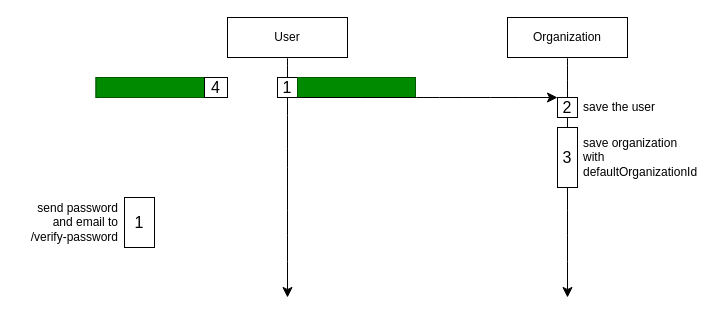
This 714x314 diagram has some shape labels left out. Here are the shapes that lost their labels. From the top down, the centre of each, then its label:
At point (149, 87): "organization.created".
At point (356, 87): "user.created".
